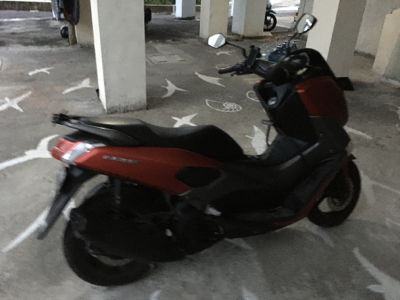moto: (48, 35, 369, 292)
